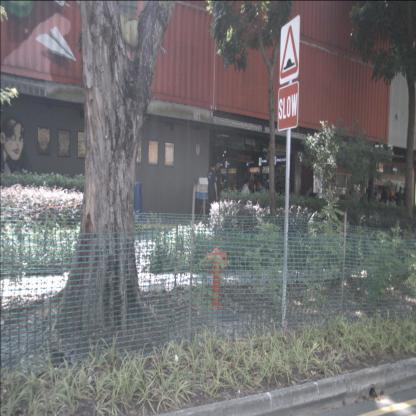human-pedestrian-adult: (208, 162, 218, 230), (213, 160, 222, 218), (359, 188, 370, 222), (240, 179, 250, 211), (395, 186, 403, 224), (303, 184, 312, 214), (250, 181, 259, 210), (258, 180, 266, 210), (263, 174, 270, 208), (381, 185, 387, 224), (252, 174, 258, 210), (372, 192, 378, 222), (390, 196, 396, 224)
